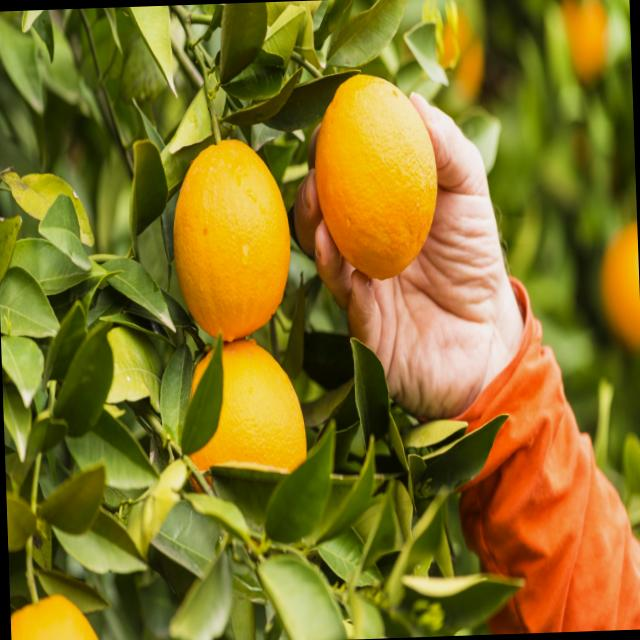orange: (162, 328, 322, 564), (302, 66, 445, 288), (166, 123, 298, 355)
